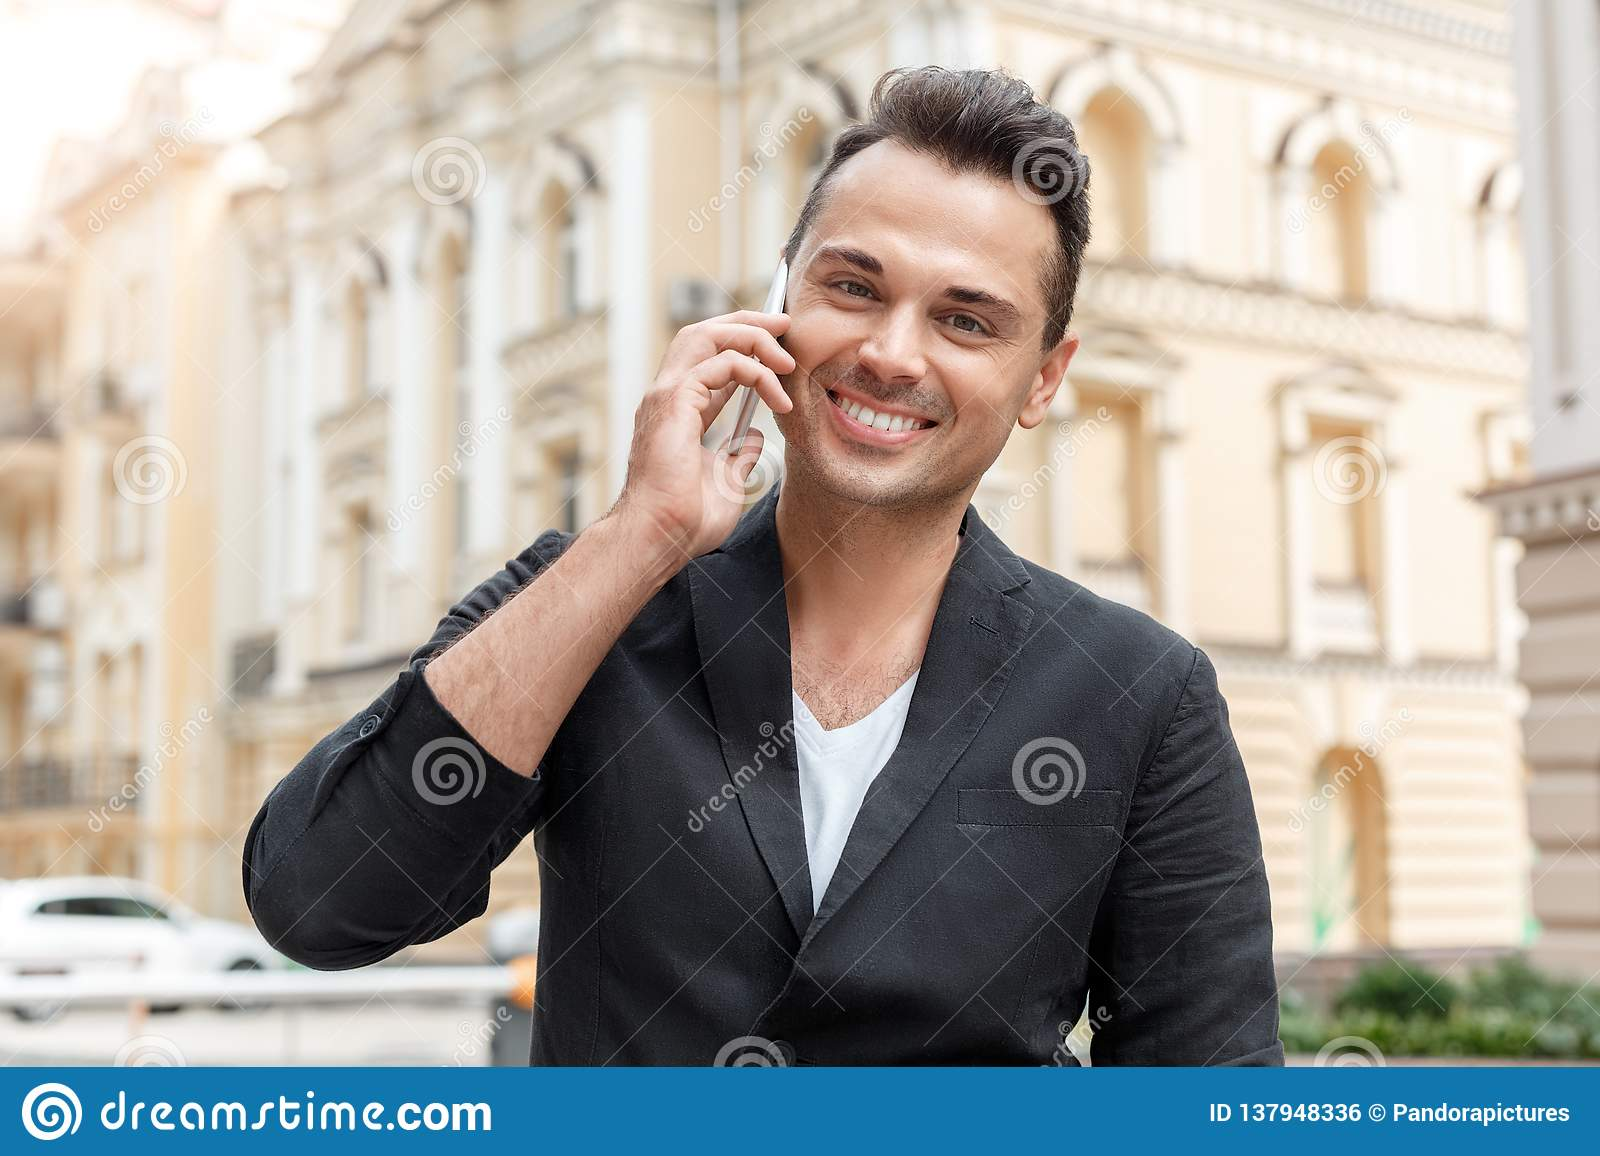phone: (725, 242, 793, 464)
talk: (602, 230, 1037, 600)
